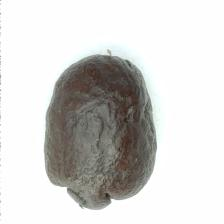NG: (46, 168, 137, 211)
